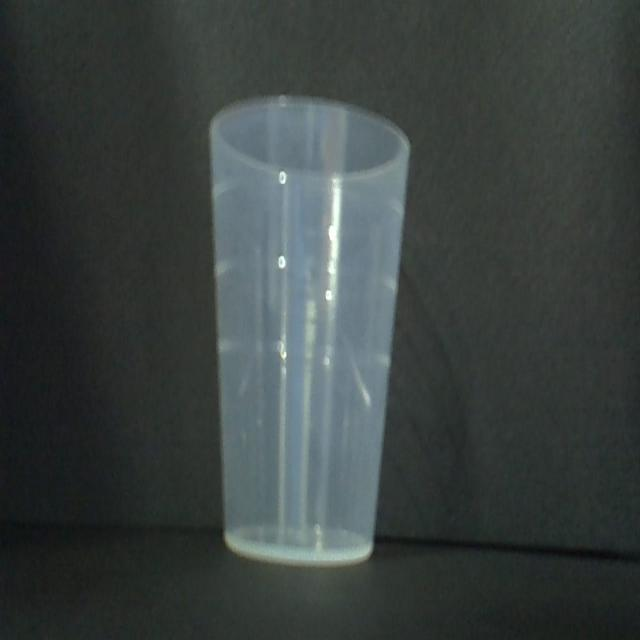cup: (201, 93, 407, 566)
